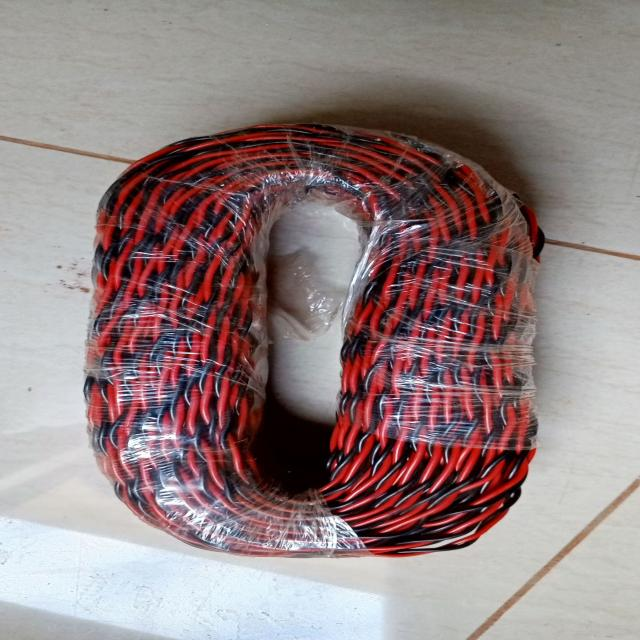Connecting Wires: (76, 98, 564, 569)
